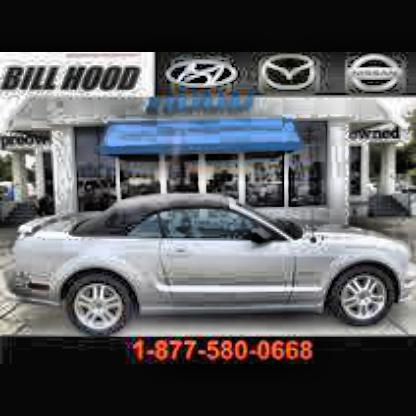Ford Mustang Convertible 2007: (6, 196, 414, 343)
